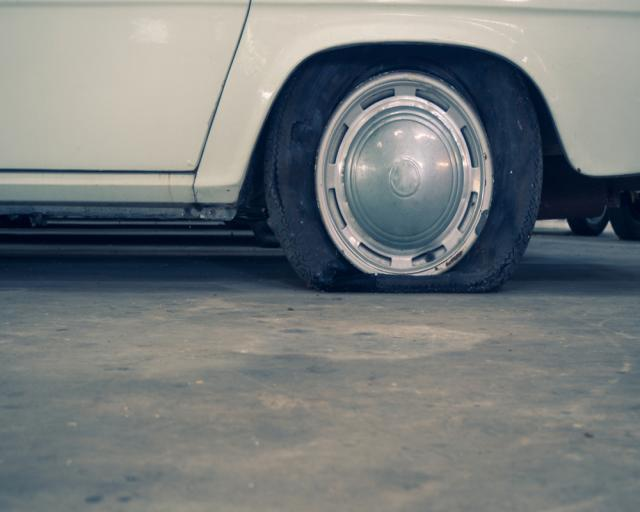tire flat: (267, 40, 543, 293)
